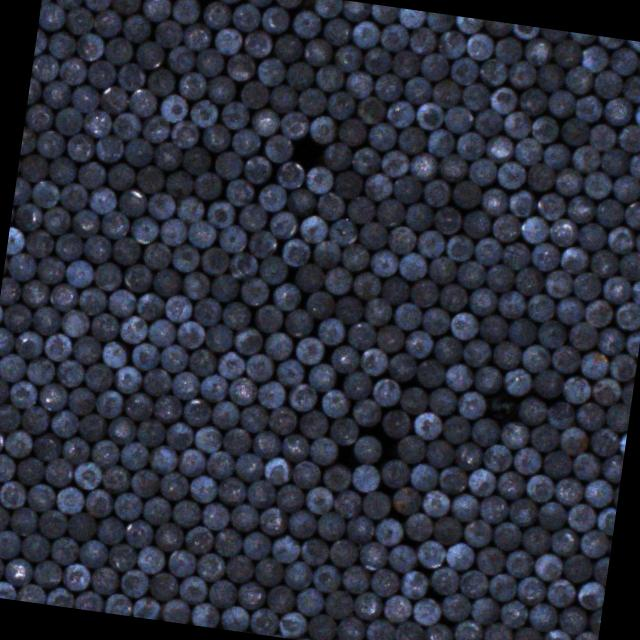tool: (514, 392, 547, 426), (438, 414, 471, 446), (574, 398, 606, 431), (568, 318, 600, 351), (266, 404, 298, 436), (544, 575, 576, 607), (115, 60, 147, 92), (608, 46, 640, 78), (474, 544, 506, 576), (508, 494, 540, 526), (557, 424, 589, 456), (436, 150, 468, 182), (343, 514, 375, 546), (358, 538, 390, 570), (592, 68, 624, 100), (600, 274, 632, 306), (192, 168, 224, 200), (182, 145, 214, 177), (519, 524, 551, 556), (583, 476, 615, 508), (232, 324, 264, 356), (258, 255, 290, 287), (564, 502, 596, 534), (270, 533, 302, 565), (526, 601, 558, 633), (430, 514, 462, 546), (569, 450, 601, 482), (532, 368, 564, 400), (385, 352, 417, 384), (394, 432, 426, 464), (469, 414, 501, 446), (452, 441, 484, 473), (526, 422, 558, 454), (540, 446, 572, 478), (589, 426, 621, 458), (589, 375, 621, 407), (157, 468, 188, 501), (494, 468, 525, 501), (457, 388, 488, 421), (244, 478, 275, 510), (253, 556, 284, 588), (233, 450, 264, 482), (202, 322, 233, 354), (194, 550, 225, 582), (135, 162, 166, 194), (297, 86, 328, 118), (548, 216, 580, 247), (151, 140, 182, 172), (112, 491, 144, 522), (256, 378, 288, 409), (562, 64, 594, 95), (212, 527, 244, 558), (223, 552, 254, 584), (602, 95, 634, 126), (154, 520, 185, 552), (240, 274, 271, 306), (121, 136, 152, 168), (36, 507, 67, 539), (528, 240, 560, 271), (463, 516, 494, 548), (368, 566, 399, 598), (110, 110, 142, 141), (92, 8, 123, 40), (491, 519, 522, 551), (146, 444, 177, 476), (81, 108, 112, 140), (351, 146, 382, 178), (122, 263, 154, 294), (391, 173, 422, 205), (582, 297, 614, 328), (310, 560, 341, 592), (543, 268, 574, 300), (283, 558, 314, 590), (250, 430, 282, 461), (342, 368, 373, 400), (201, 246, 232, 278), (32, 558, 64, 589), (215, 474, 246, 506), (444, 539, 475, 571), (85, 58, 116, 90), (298, 536, 329, 568), (40, 204, 71, 236), (82, 362, 114, 393), (447, 54, 478, 86), (140, 494, 172, 525), (200, 500, 232, 531), (298, 408, 329, 440), (192, 294, 223, 326), (515, 575, 546, 607), (507, 314, 538, 346), (360, 489, 392, 520), (230, 126, 261, 158), (184, 522, 215, 554), (484, 261, 516, 292), (477, 494, 508, 526), (480, 442, 512, 473), (535, 317, 566, 349), (449, 491, 480, 523), (466, 466, 497, 498), (424, 438, 455, 470), (416, 358, 447, 390), (510, 443, 541, 475), (535, 498, 566, 530), (553, 475, 585, 506), (414, 537, 446, 568), (477, 313, 508, 345), (502, 367, 534, 398), (473, 364, 504, 396), (380, 274, 411, 306), (520, 342, 552, 373), (550, 343, 582, 374), (596, 327, 628, 358), (126, 87, 157, 118), (174, 319, 205, 350), (151, 393, 182, 424), (208, 578, 239, 609), (293, 7, 324, 38), (37, 381, 68, 412), (411, 408, 442, 439), (351, 462, 382, 493), (243, 351, 274, 382), (82, 234, 113, 265), (204, 74, 235, 105), (19, 532, 50, 563), (572, 270, 603, 301), (344, 321, 375, 352), (57, 180, 88, 211), (99, 208, 130, 239), (410, 596, 441, 627), (221, 99, 252, 130), (72, 333, 103, 364), (321, 461, 352, 492), (141, 113, 172, 144), (382, 594, 413, 625), (178, 574, 209, 605), (506, 58, 537, 89), (170, 497, 201, 528), (47, 155, 78, 186), (31, 430, 62, 461), (164, 421, 195, 452), (25, 482, 56, 513), (357, 346, 388, 377), (367, 120, 398, 151), (7, 378, 38, 409), (431, 204, 462, 235), (458, 569, 489, 600), (107, 542, 138, 573), (408, 462, 439, 493), (332, 488, 363, 519), (150, 267, 181, 298), (326, 536, 357, 567), (129, 213, 160, 244), (492, 341, 523, 372), (432, 334, 463, 365), (436, 465, 467, 496), (78, 286, 109, 317), (248, 229, 279, 260), (499, 241, 530, 272), (284, 306, 315, 337), (442, 361, 473, 392), (524, 472, 555, 503), (88, 312, 120, 342), (16, 454, 46, 486), (562, 552, 592, 584), (610, 172, 640, 204), (305, 484, 335, 516), (106, 286, 136, 318), (215, 150, 245, 182), (78, 536, 108, 568), (334, 294, 364, 326), (76, 32, 106, 64), (256, 302, 286, 334), (261, 454, 291, 486), (324, 588, 354, 620), (20, 404, 50, 436), (148, 570, 178, 602), (64, 256, 94, 288), (430, 76, 460, 108), (170, 118, 200, 150), (264, 132, 294, 164), (52, 232, 84, 262), (244, 154, 274, 186), (24, 228, 54, 260), (41, 78, 71, 110), (54, 104, 84, 136), (186, 472, 218, 502), (404, 330, 436, 360), (296, 334, 326, 366), (398, 250, 428, 282), (498, 420, 530, 450), (558, 604, 590, 634), (280, 236, 312, 266), (497, 598, 527, 630), (238, 402, 270, 432), (294, 262, 324, 294), (372, 70, 402, 102), (571, 142, 601, 174), (134, 40, 164, 72), (174, 194, 206, 224), (430, 564, 460, 596), (578, 528, 610, 558), (124, 12, 154, 44), (428, 385, 458, 417), (84, 488, 114, 519), (48, 281, 78, 312), (120, 439, 150, 470), (512, 134, 542, 165), (60, 561, 90, 592), (309, 436, 340, 466), (8, 252, 38, 283), (226, 376, 256, 407), (240, 530, 271, 560), (353, 591, 383, 622), (100, 84, 130, 115), (220, 427, 250, 458), (402, 74, 432, 105), (372, 375, 402, 406), (9, 506, 39, 537), (130, 468, 161, 498), (386, 223, 416, 254), (216, 348, 246, 379), (526, 161, 556, 192), (533, 552, 564, 582), (154, 18, 184, 49), (486, 572, 516, 603), (160, 92, 190, 123), (497, 160, 528, 190), (49, 534, 80, 564), (258, 507, 288, 538), (91, 260, 122, 290), (118, 568, 149, 598), (182, 22, 213, 52), (364, 295, 394, 326), (469, 594, 500, 624), (186, 218, 217, 248), (376, 196, 406, 227), (362, 170, 392, 201), (66, 510, 96, 541), (326, 89, 356, 120), (206, 200, 237, 230), (210, 399, 240, 430), (504, 548, 534, 579), (1, 556, 32, 586), (194, 48, 224, 79), (330, 343, 360, 374), (218, 222, 248, 253), (30, 305, 60, 336), (66, 386, 96, 417), (146, 317, 176, 348), (64, 3, 94, 34), (552, 39, 582, 70), (576, 579, 606, 610), (324, 266, 354, 297), (280, 108, 310, 139), (294, 585, 324, 616), (404, 200, 434, 231), (43, 456, 73, 487), (472, 108, 503, 138), (206, 449, 236, 480), (76, 412, 106, 443), (288, 508, 318, 539), (57, 55, 87, 86), (492, 211, 522, 242), (123, 517, 153, 548), (274, 483, 304, 514), (106, 415, 136, 446), (265, 584, 296, 614), (266, 331, 296, 362), (170, 242, 200, 273), (89, 564, 120, 594), (222, 298, 252, 329), (608, 350, 638, 381), (90, 438, 120, 469), (229, 252, 260, 282), (382, 407, 412, 438), (267, 84, 297, 115), (456, 259, 486, 290), (544, 398, 575, 428), (181, 397, 211, 428), (289, 382, 320, 412), (290, 458, 320, 489), (461, 207, 491, 238), (316, 511, 346, 542), (566, 193, 596, 224), (260, 5, 290, 36), (389, 49, 419, 80), (598, 146, 628, 177), (374, 518, 405, 548), (308, 361, 338, 392), (332, 168, 362, 199), (272, 281, 302, 312), (590, 247, 620, 278), (232, 1, 262, 32), (562, 374, 593, 404), (514, 264, 544, 295), (330, 416, 361, 446), (380, 458, 410, 489), (460, 338, 490, 369), (308, 112, 337, 144), (305, 290, 335, 320), (547, 88, 577, 118), (374, 324, 404, 354), (2, 427, 32, 457), (414, 102, 444, 132), (164, 293, 194, 323), (256, 58, 286, 88), (298, 213, 328, 243), (278, 610, 308, 640), (418, 50, 448, 80), (306, 165, 336, 195), (240, 202, 270, 232), (104, 37, 134, 67), (396, 124, 426, 154), (581, 169, 611, 199), (229, 503, 259, 533), (534, 62, 564, 92), (170, 370, 200, 400), (408, 151, 438, 181), (344, 70, 374, 100), (95, 514, 125, 544), (442, 591, 472, 621), (198, 372, 228, 402), (351, 270, 381, 300), (456, 130, 486, 160), (30, 178, 60, 208), (474, 236, 504, 266), (58, 308, 88, 338), (136, 544, 166, 574), (88, 186, 118, 216), (284, 60, 314, 90), (181, 270, 211, 300), (116, 187, 146, 217), (558, 118, 588, 148), (96, 134, 126, 164), (54, 358, 84, 388), (442, 104, 472, 134), (400, 568, 430, 598), (34, 256, 64, 286), (13, 330, 43, 360), (106, 160, 136, 190), (146, 191, 176, 221), (142, 368, 172, 398), (554, 167, 584, 197), (236, 580, 266, 610), (158, 216, 188, 246), (336, 115, 366, 145), (502, 110, 532, 140), (466, 30, 496, 60), (251, 107, 281, 137), (114, 364, 144, 394), (272, 32, 302, 62), (36, 128, 66, 158), (346, 194, 376, 224), (95, 388, 125, 418), (225, 177, 255, 207), (110, 236, 140, 266), (201, 122, 231, 152), (422, 306, 452, 336), (408, 24, 438, 54), (282, 434, 312, 464), (248, 607, 278, 637), (478, 56, 508, 86), (209, 272, 239, 302), (192, 424, 222, 454), (606, 224, 636, 254), (392, 484, 422, 514), (158, 342, 188, 372), (379, 22, 409, 52), (176, 71, 206, 101), (386, 100, 416, 130), (258, 182, 288, 212), (560, 245, 590, 275), (516, 86, 546, 116), (462, 80, 492, 110), (416, 228, 446, 258), (380, 148, 410, 178), (64, 132, 94, 162), (278, 160, 308, 190), (70, 208, 100, 238), (136, 418, 166, 448), (20, 278, 50, 308), (578, 220, 608, 250), (487, 85, 517, 115), (467, 156, 497, 186), (342, 243, 372, 273), (522, 35, 552, 65), (60, 434, 90, 464), (550, 526, 580, 556), (467, 287, 497, 317), (68, 82, 98, 112), (55, 485, 85, 515), (448, 310, 478, 340), (536, 190, 566, 220), (498, 290, 528, 320), (574, 92, 604, 122), (492, 34, 522, 64), (312, 240, 342, 270), (358, 220, 388, 250), (429, 256, 459, 286), (166, 548, 196, 578), (134, 290, 164, 320), (122, 390, 152, 420), (530, 116, 560, 146), (520, 213, 550, 243), (188, 348, 218, 378), (437, 28, 467, 58), (270, 210, 300, 240), (327, 218, 357, 248), (586, 122, 616, 152), (482, 134, 512, 164), (142, 241, 172, 271), (3, 302, 33, 332), (304, 36, 334, 66), (394, 300, 424, 330), (72, 460, 102, 490), (18, 154, 48, 184), (386, 544, 416, 574), (276, 356, 306, 386), (422, 178, 452, 208), (49, 409, 79, 439), (446, 234, 476, 264), (239, 80, 269, 110), (525, 294, 555, 324), (410, 278, 440, 308), (242, 29, 272, 59), (146, 66, 176, 96), (322, 142, 352, 172), (357, 96, 387, 126), (340, 564, 370, 594), (100, 463, 130, 493), (322, 389, 352, 419), (363, 46, 393, 76), (420, 488, 450, 518), (317, 190, 347, 220), (46, 30, 76, 60), (554, 295, 584, 325), (354, 397, 384, 427), (580, 350, 610, 380), (288, 186, 318, 216), (452, 180, 482, 210), (398, 386, 428, 416), (440, 284, 470, 314), (323, 16, 353, 46), (189, 98, 219, 128), (595, 199, 625, 229), (76, 160, 106, 190), (165, 168, 195, 198), (405, 511, 435, 541), (352, 433, 382, 463), (202, 0, 232, 30), (481, 185, 510, 216), (158, 596, 190, 624), (604, 402, 632, 434), (219, 604, 249, 633), (166, 45, 195, 75), (212, 25, 241, 55), (426, 126, 455, 156), (27, 354, 56, 384), (318, 316, 347, 346), (44, 331, 73, 361), (335, 44, 364, 74), (351, 18, 380, 48), (226, 52, 255, 82), (369, 248, 398, 278), (177, 446, 206, 476), (506, 188, 535, 218), (314, 64, 344, 93), (580, 44, 609, 74), (23, 102, 52, 132), (13, 201, 42, 231), (120, 314, 148, 345), (305, 612, 336, 640), (613, 300, 640, 332), (541, 142, 570, 171), (130, 340, 158, 370), (100, 339, 128, 369), (0, 352, 27, 383), (31, 53, 58, 83), (37, 2, 64, 32), (190, 602, 220, 628), (0, 479, 26, 509), (130, 594, 160, 620), (335, 614, 365, 640), (44, 584, 76, 608), (615, 124, 640, 154), (616, 250, 640, 281), (600, 451, 624, 482), (170, 0, 200, 24), (74, 588, 104, 612), (451, 617, 482, 640), (364, 617, 395, 640), (105, 592, 134, 616), (594, 504, 617, 534), (393, 618, 424, 640), (16, 582, 46, 604), (0, 527, 21, 558), (0, 403, 21, 434), (480, 620, 512, 640), (141, 0, 170, 22), (621, 198, 640, 230), (0, 275, 20, 305), (423, 621, 454, 640), (344, 1, 372, 22), (621, 72, 640, 102), (424, 12, 452, 32), (371, 4, 399, 24), (6, 227, 25, 256), (454, 16, 483, 35), (397, 8, 424, 28), (20, 126, 38, 156), (313, 0, 342, 18), (484, 20, 513, 38), (592, 555, 610, 584), (110, 0, 142, 16), (13, 178, 31, 206), (511, 624, 542, 640), (0, 452, 16, 483), (624, 329, 640, 358), (618, 379, 634, 408), (538, 28, 568, 43), (0, 327, 15, 356), (27, 78, 42, 107), (512, 24, 539, 40), (34, 29, 48, 58), (588, 606, 602, 635), (540, 627, 571, 640), (627, 150, 640, 181), (596, 36, 624, 50), (567, 32, 595, 46), (571, 627, 599, 640), (0, 579, 16, 600), (83, 0, 113, 11), (629, 277, 640, 306), (617, 428, 628, 456), (0, 503, 10, 533), (54, 0, 84, 10), (0, 376, 9, 407), (612, 481, 620, 511), (273, 0, 302, 8), (245, 0, 274, 7), (625, 40, 640, 53), (634, 99, 640, 130), (634, 226, 640, 257), (0, 301, 4, 328), (41, 0, 54, 7), (319, 637, 347, 640)
tool_b: (484, 391, 517, 421)
void: (288, 134, 328, 168)
